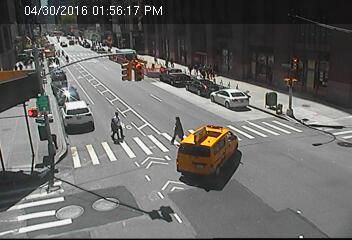neg: (231, 122, 251, 149), (1, 19, 20, 46), (121, 56, 138, 80), (284, 17, 301, 41), (287, 131, 304, 153), (191, 23, 207, 44), (226, 26, 242, 47), (110, 79, 125, 100), (259, 53, 274, 73), (103, 17, 118, 37), (241, 166, 256, 185), (90, 49, 104, 68), (68, 27, 82, 46), (291, 54, 305, 72), (314, 89, 327, 106), (154, 24, 167, 41), (144, 79, 156, 96), (93, 29, 105, 45), (48, 30, 60, 46), (263, 27, 274, 41), (27, 27, 36, 39)
pos: (106, 107, 131, 140), (165, 113, 187, 143), (209, 64, 220, 80), (183, 61, 194, 75), (62, 53, 72, 67), (169, 54, 178, 66), (20, 59, 29, 71), (27, 56, 36, 68), (194, 63, 202, 74), (159, 53, 167, 63), (59, 49, 67, 59), (153, 54, 160, 63), (17, 61, 24, 70)
